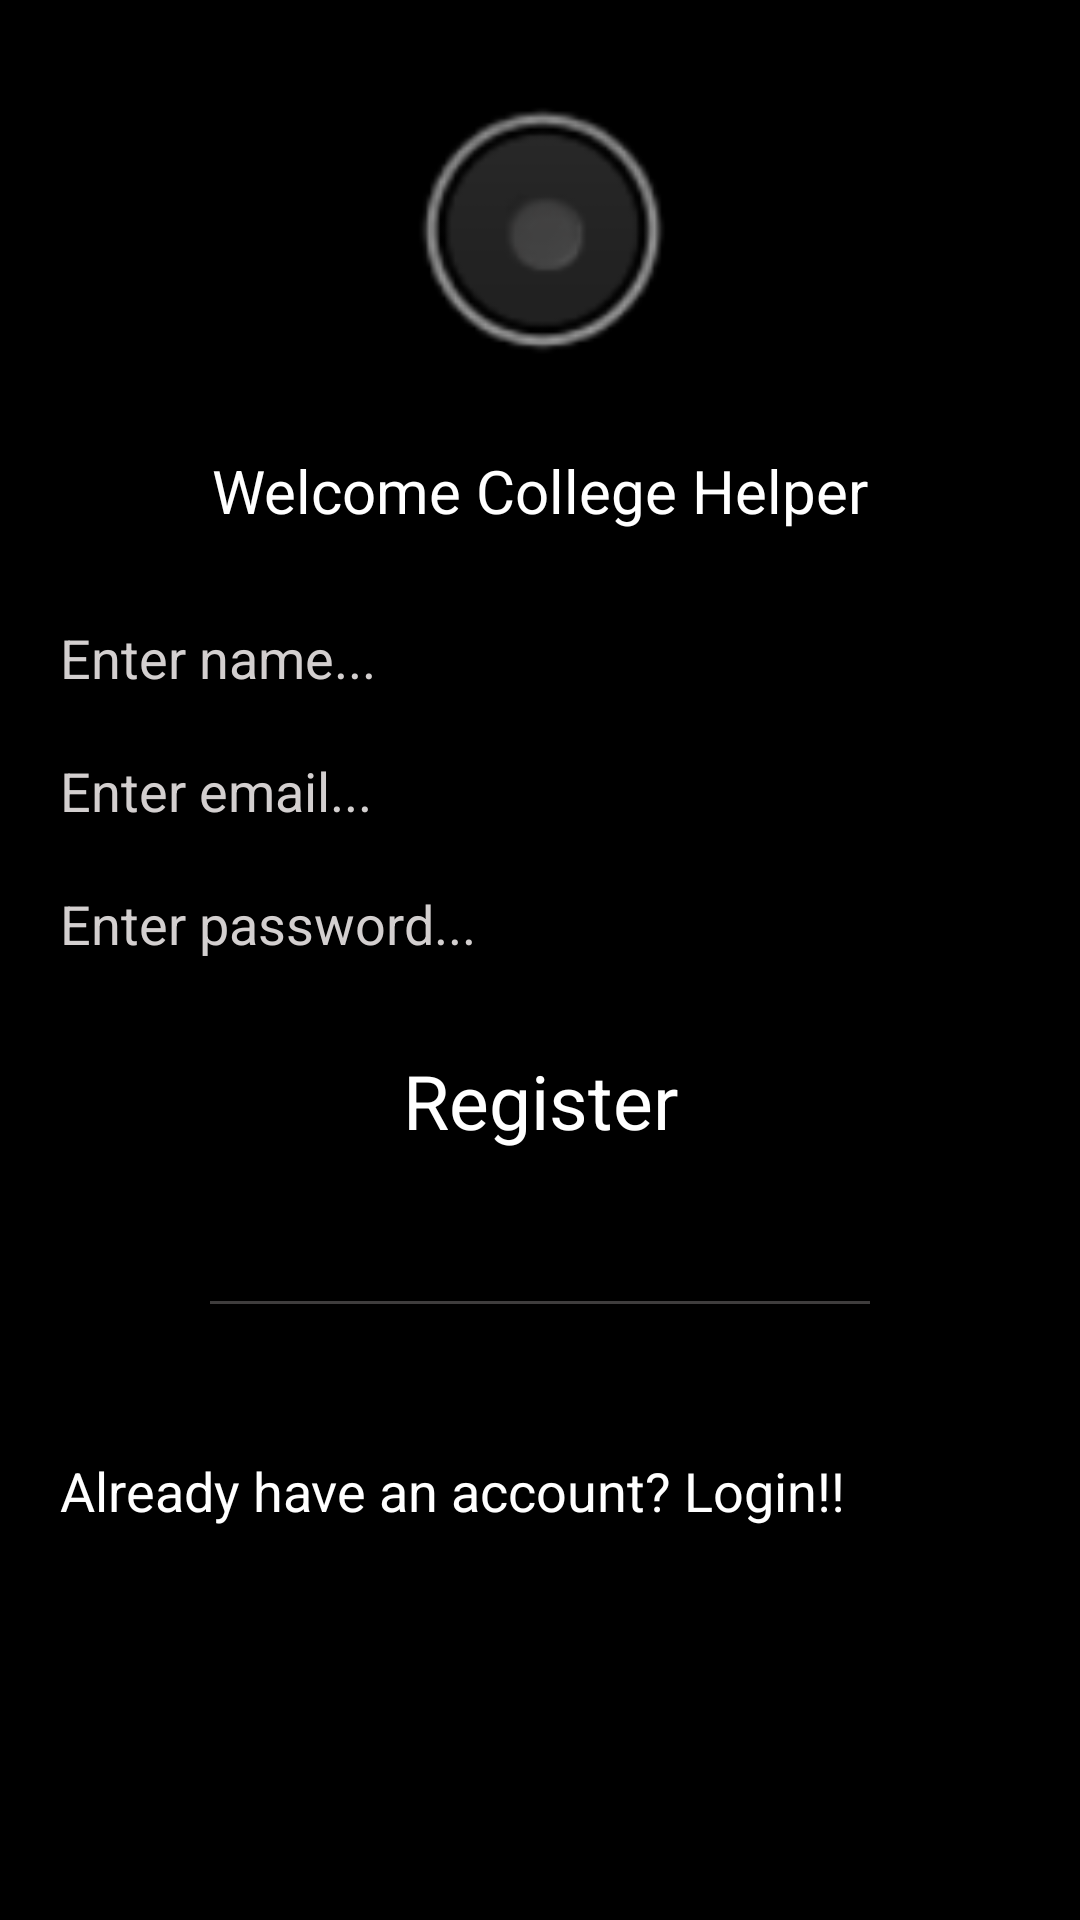

Screen size 1080x1920. Icon name, then its box in pixels as [x1,y1,x2,y2]:
radio: [423,111,662,349]
